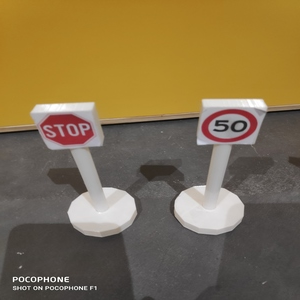50-bord: (202, 109, 258, 144)
stop-bord: (36, 113, 95, 148)
